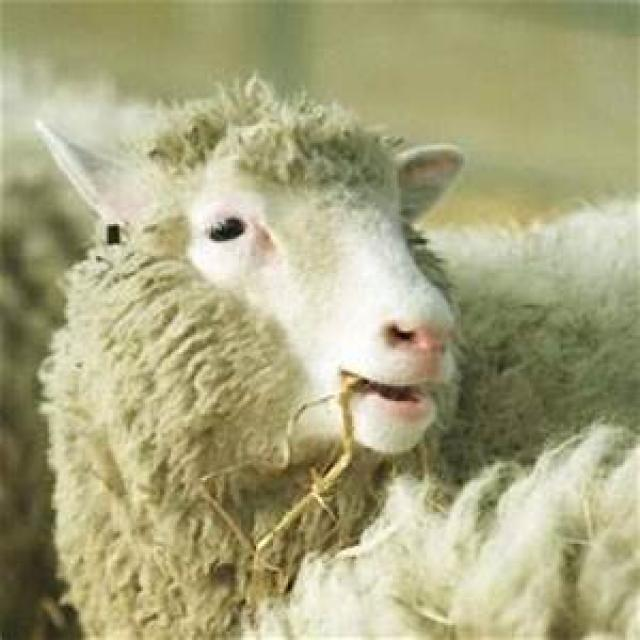sheep: (32, 70, 638, 638)
